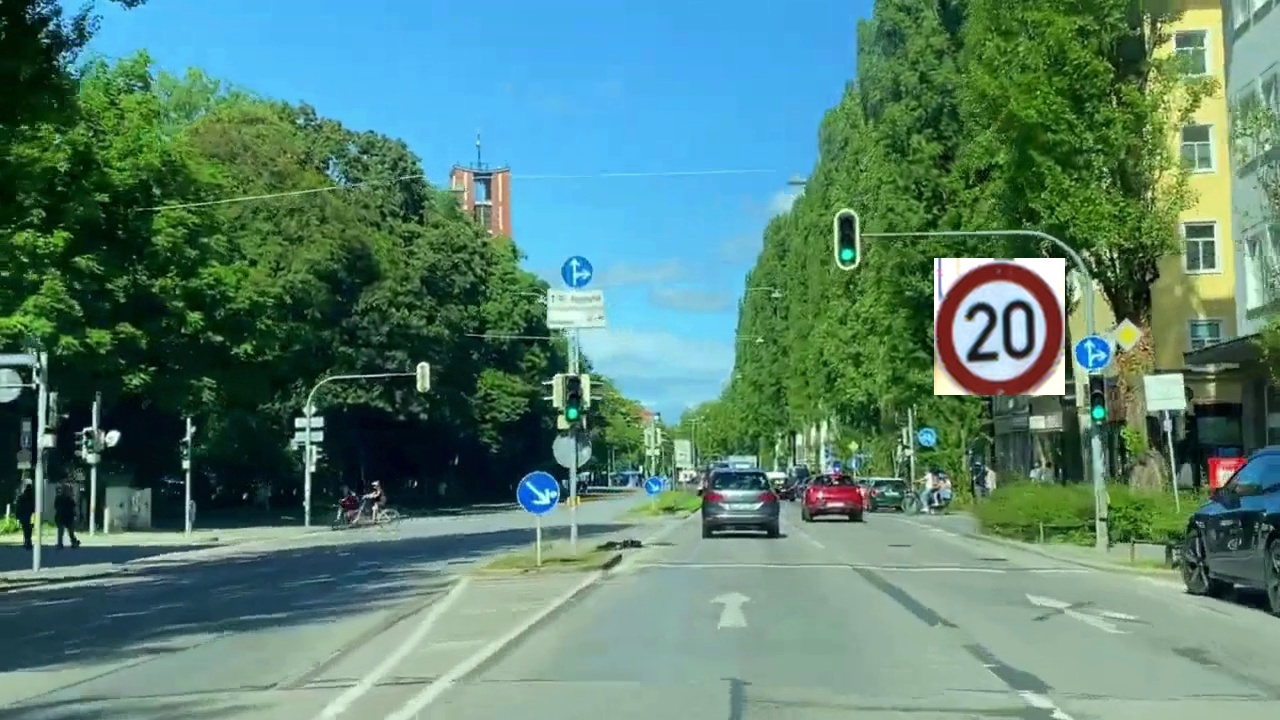Speed 20: (934, 258, 1065, 395)
